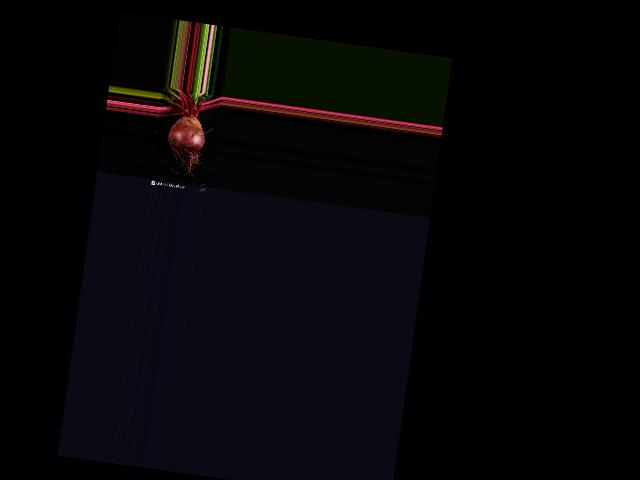beet: (150, 87, 211, 180)
